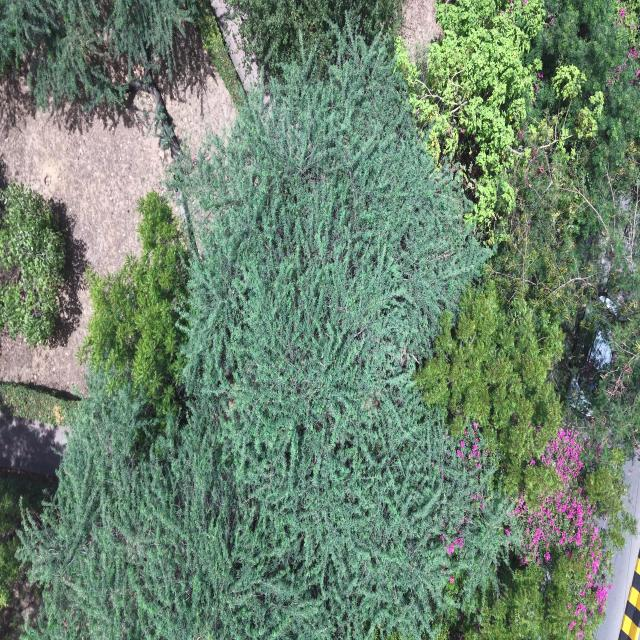DRY_AREA: (0, 78, 168, 393), (0, 87, 164, 392), (211, 0, 257, 89), (0, 412, 66, 474), (401, 0, 441, 59)
VEGETATION_TREE: (18, 0, 639, 639), (21, 22, 511, 639), (185, 16, 505, 636), (418, 1, 639, 635), (20, 380, 510, 639), (416, 279, 628, 632), (423, 1, 639, 314), (495, 1, 639, 453), (403, 0, 639, 227), (492, 2, 639, 335), (504, 1, 639, 295), (403, 0, 544, 241), (0, 0, 243, 129), (416, 281, 563, 491), (523, 1, 639, 214), (0, 0, 215, 112), (79, 192, 186, 415), (0, 0, 190, 110), (449, 549, 604, 639), (232, 0, 401, 74), (574, 277, 639, 455), (0, 183, 64, 345), (0, 469, 54, 639), (198, 3, 245, 108), (0, 381, 79, 425), (0, 478, 20, 606)
